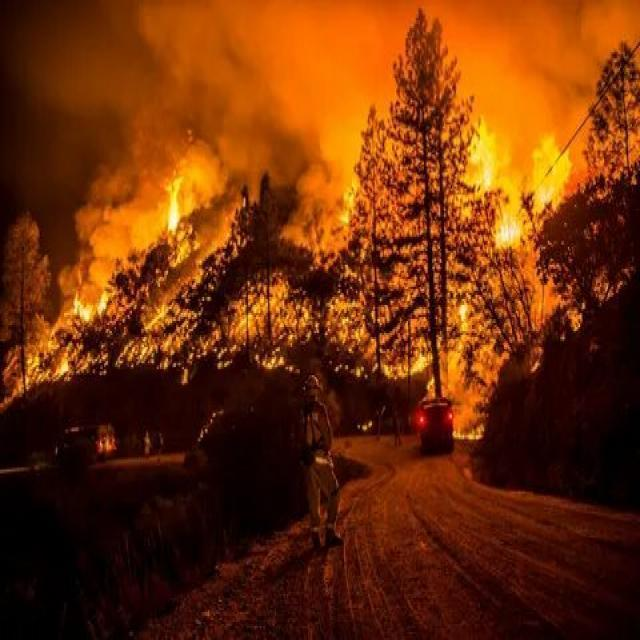Fire: (42, 150, 242, 343), (414, 96, 579, 286), (358, 309, 504, 438)
Smoke: (9, 0, 406, 150)
